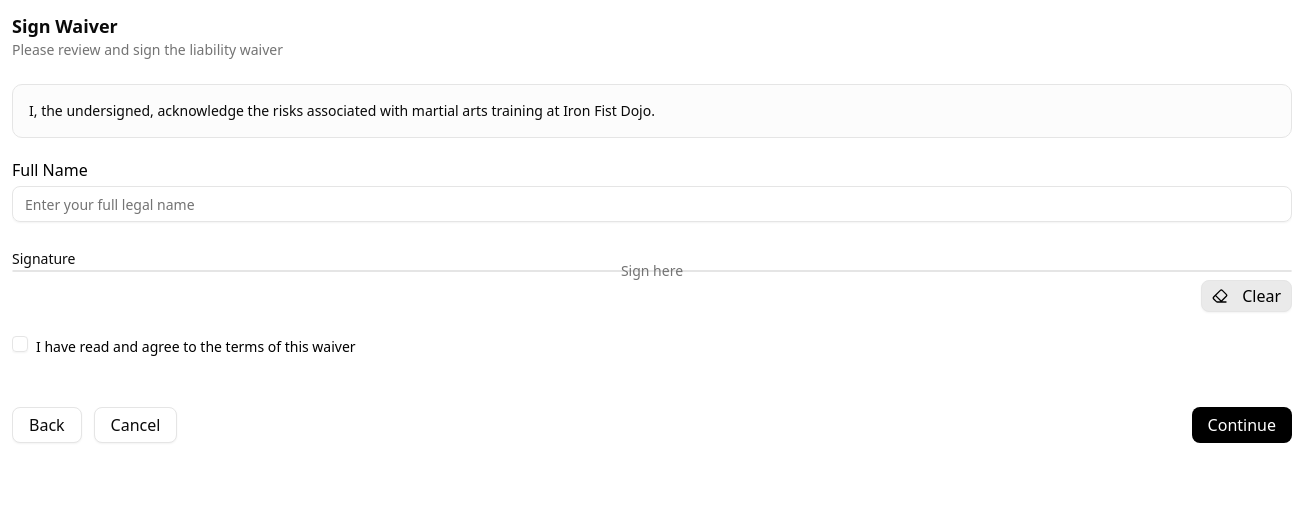
Scenario: MemberWaiverStep › Validation › should show signature error when submitting without signature
Expected: the heading "Sign Waiver" is shown, [12,14,118,38]
# Enter name but don't sign
Type "John Doe" into the field with placeholder "Enter your full legal name". click: (652, 204)
box: [12,186,1292,222]
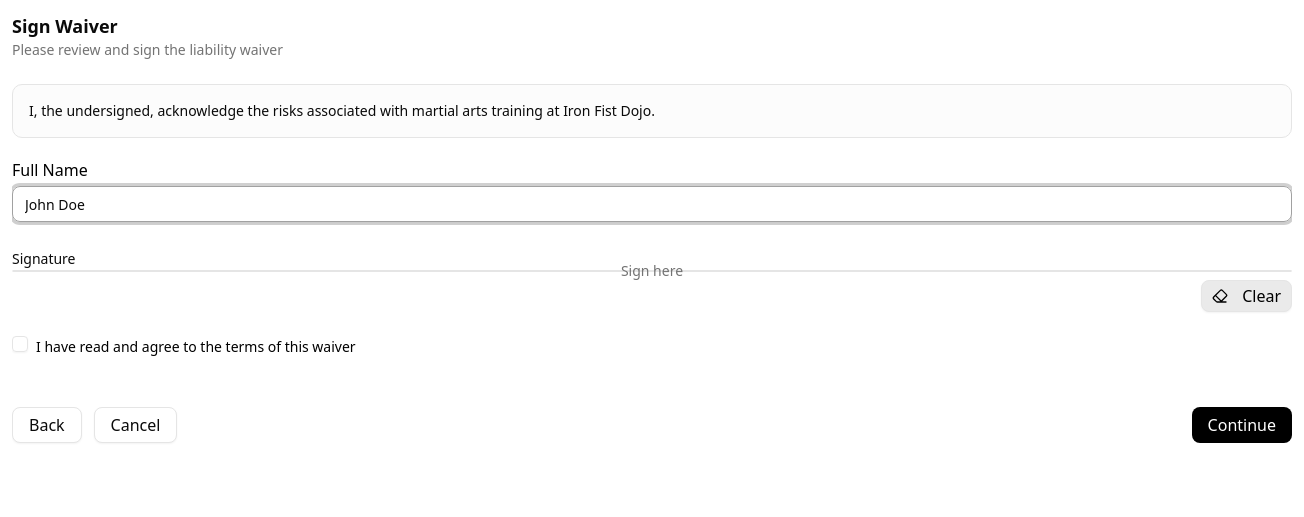
# Click Continue without signing
Click the button "Continue". click: (1242, 425)
box: [1192,407,1292,443]
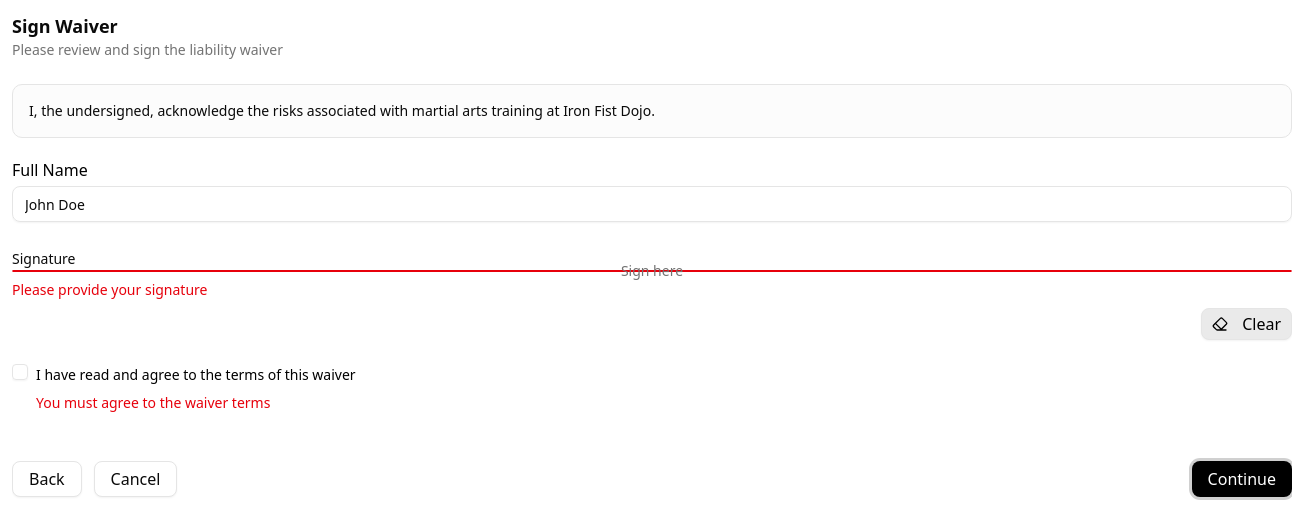
Now the text "Please provide your signature" is shown, box [12,280,208,299]
